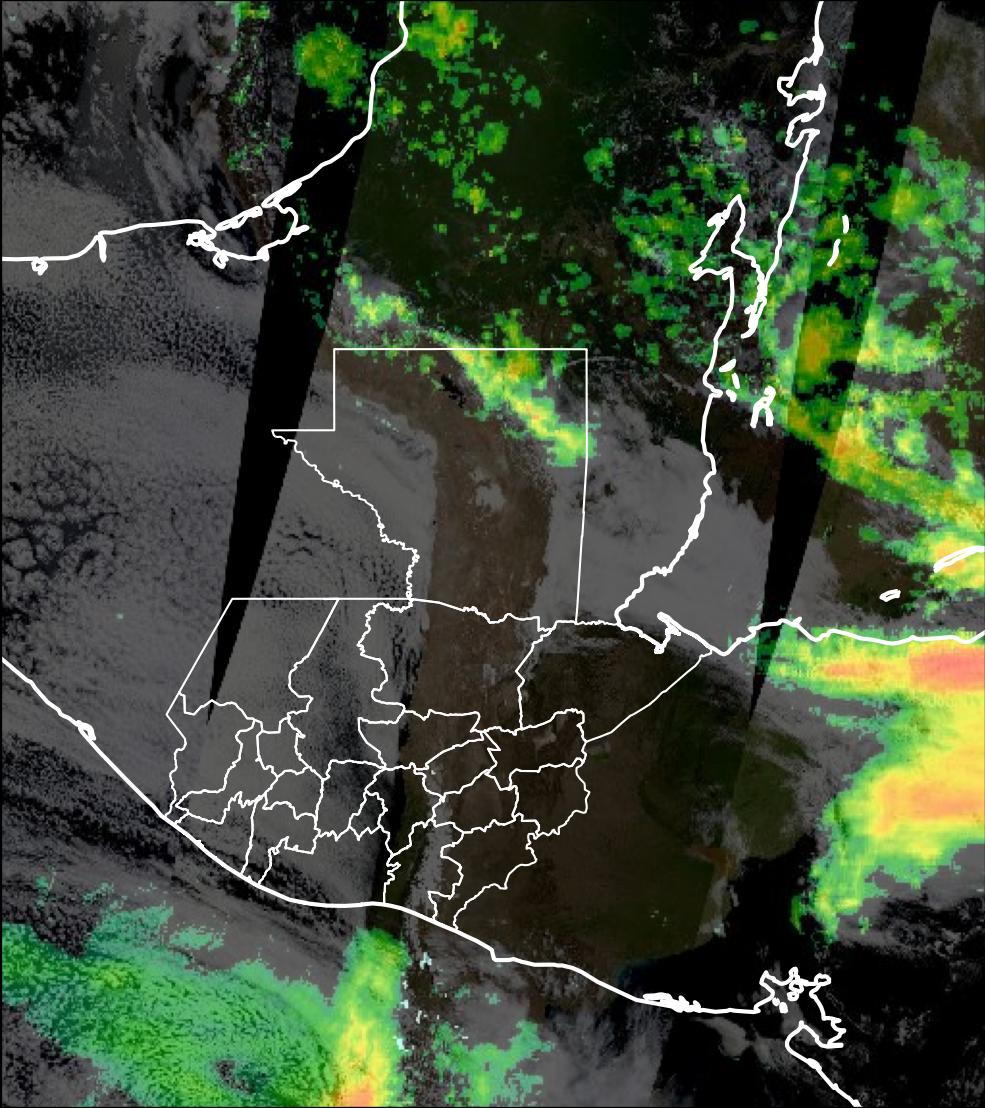precipitacion: (822, 642, 985, 714), (873, 769, 985, 843), (328, 1080, 390, 1108)
